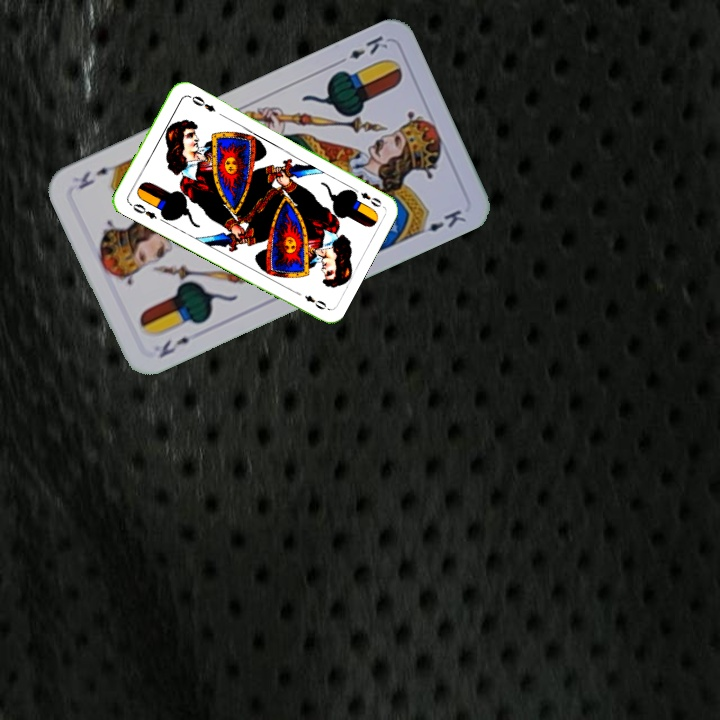EK: (333, 31, 391, 68), (154, 333, 193, 361)
EO: (347, 183, 384, 210), (125, 198, 160, 222)
